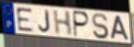A: (110, 15, 130, 42)
E: (15, 7, 36, 33)
H: (52, 10, 73, 37)
J: (38, 9, 52, 34)
P: (73, 10, 91, 39)
S: (91, 12, 110, 40)
